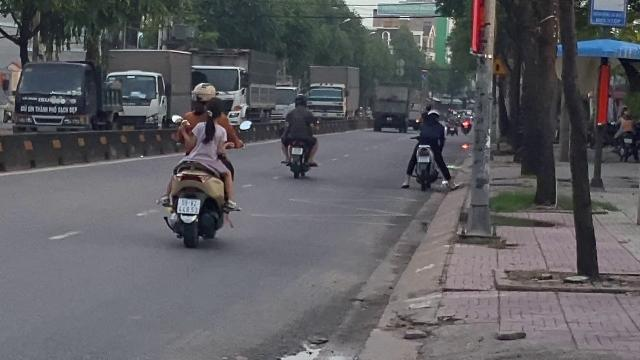helmet: (189, 82, 217, 109)
licenseplate: (178, 198, 200, 214)
motorcyclist: (160, 81, 240, 248)
nohelmet: (203, 98, 223, 122)
